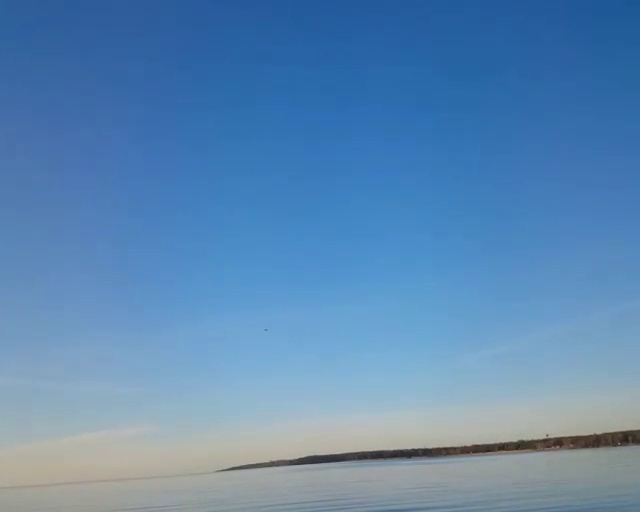BIRD: (258, 321, 273, 339)
